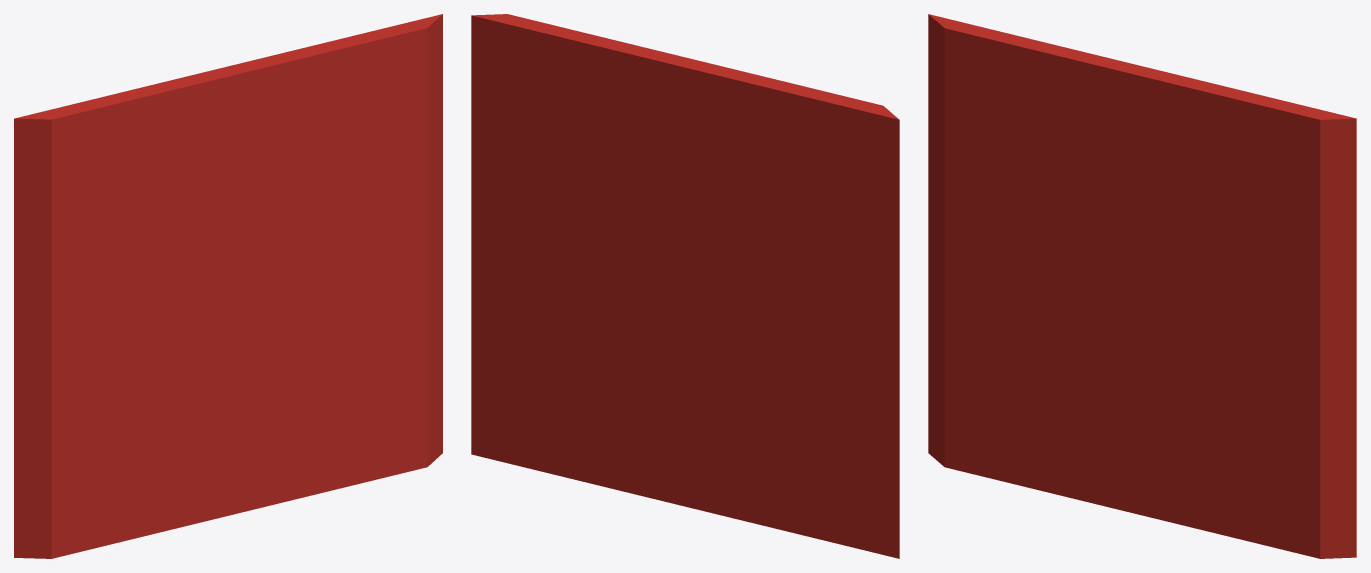
Rendered from Corridor 2 Walls.gltf.
The picture shows the model from 3 angles, left to right: view 1: azimuth 30°, elevation 25°; view 2: azimuth 150°, elevation 25°; view 3: azimuth 330°, elevation 25°; orthographic projection.
Visible parts, largest first — view 1: Corridor 2 Walls; view 2: Corridor 2 Walls; view 3: Corridor 2 Walls.
Boxes of the visible parts, box(x1,y1,x2,y2) form: Corridor 2 Walls: box(14, 14, 442, 558); Corridor 2 Walls: box(471, 14, 899, 558); Corridor 2 Walls: box(928, 14, 1356, 558).
Size of the model in its own units: 0.3154 by 0.3089 by 0.0134.
Materials: 1 (1 with a texture image).
